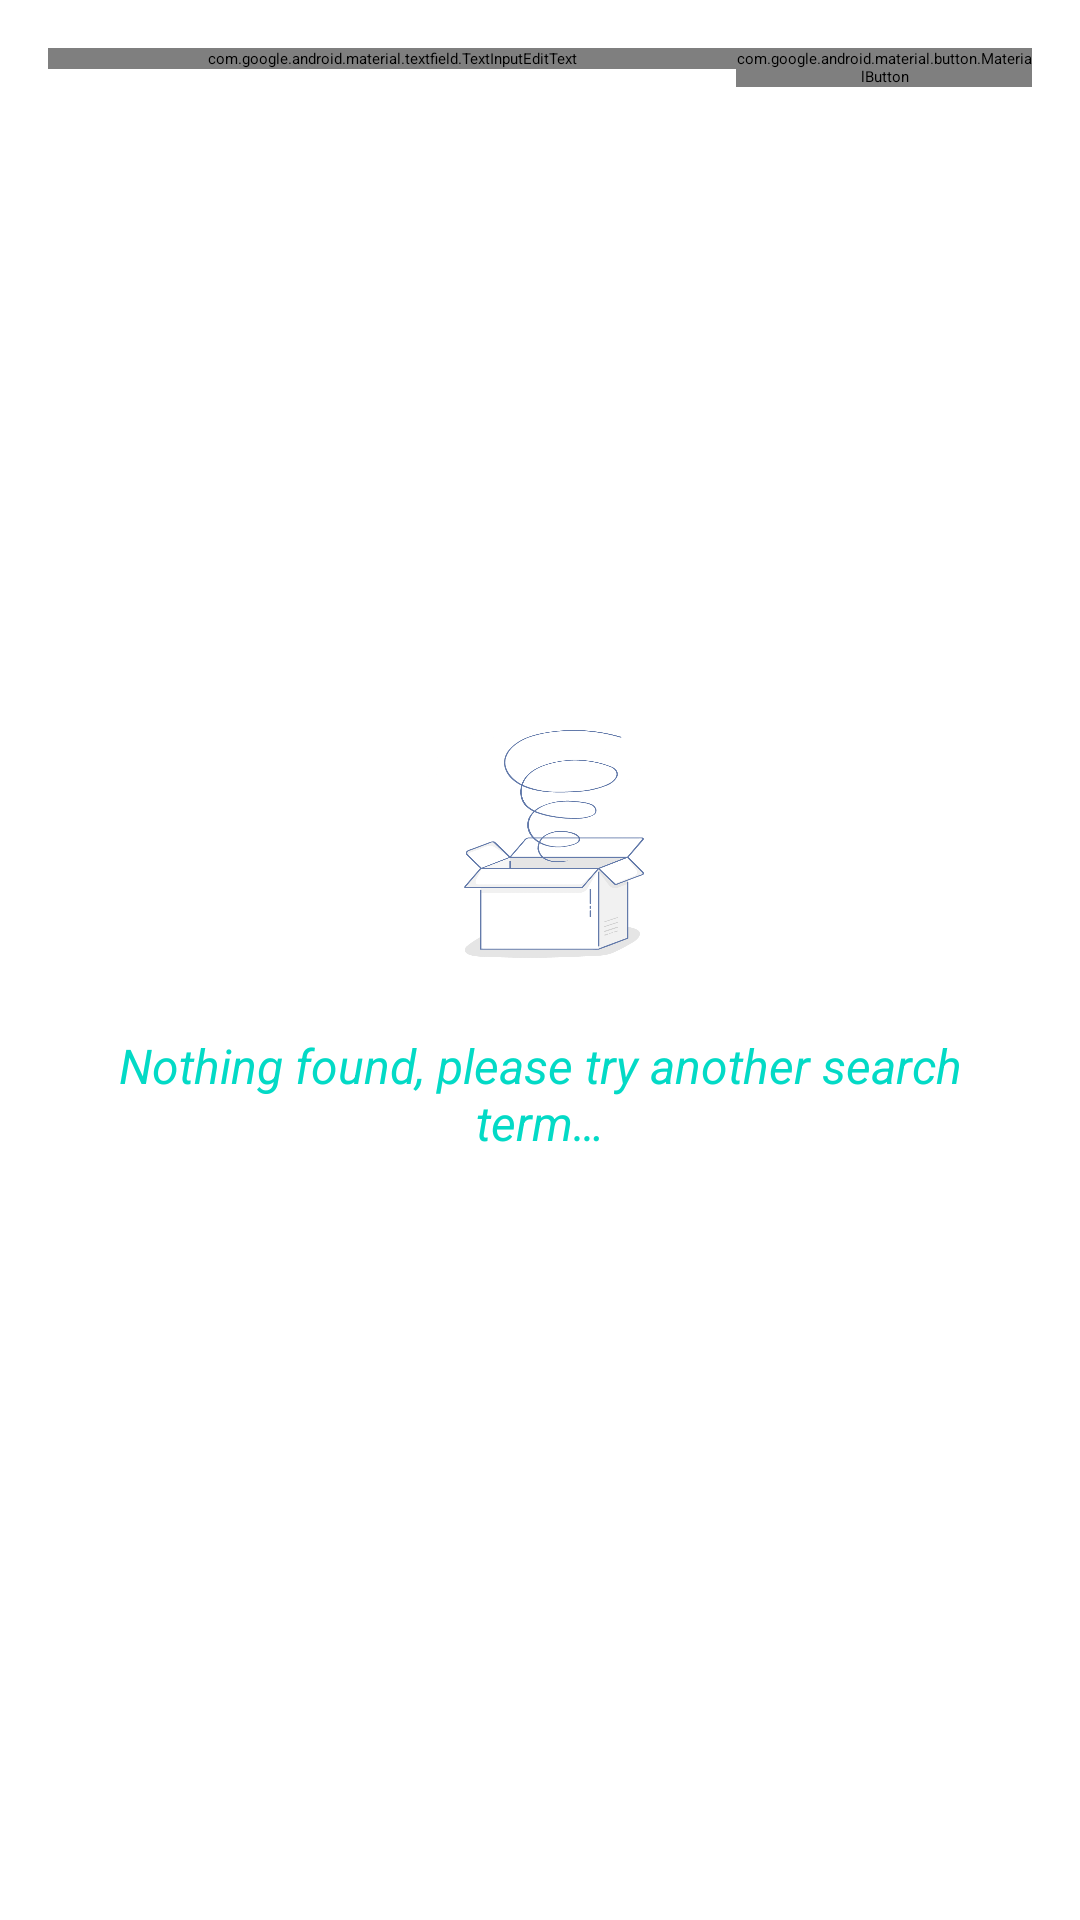

Screen size 1080x1920. Icon name, then its box in pixels as (x1, y1, x2, y2):
movies empty: (464, 730, 644, 958)
